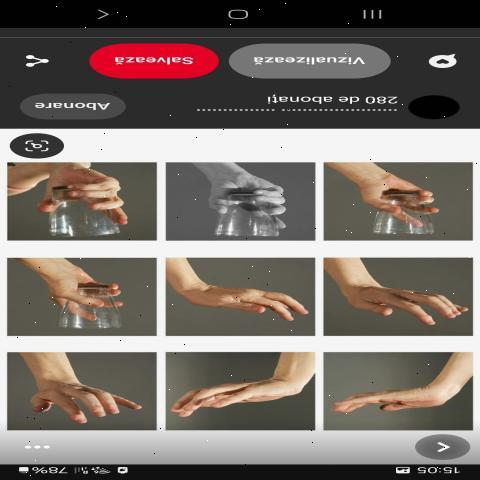Hands: (17, 353, 149, 436), (163, 266, 310, 333), (326, 268, 469, 332), (165, 368, 315, 428), (322, 360, 462, 423)
